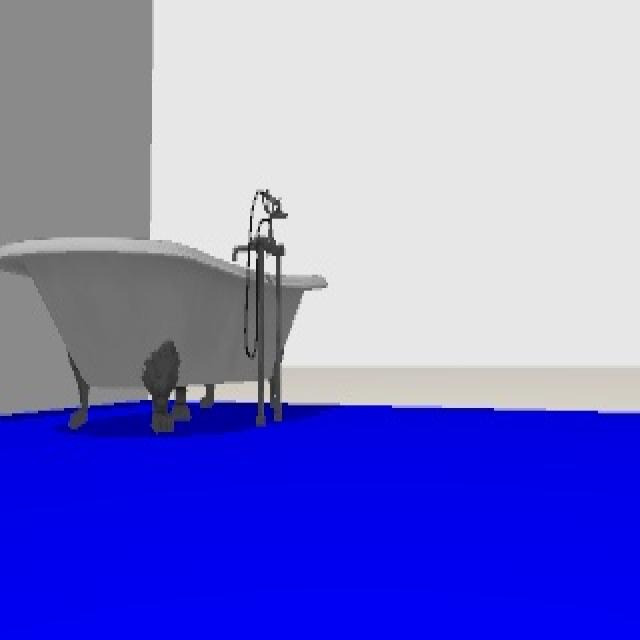bathtub: (0, 181, 326, 432)
